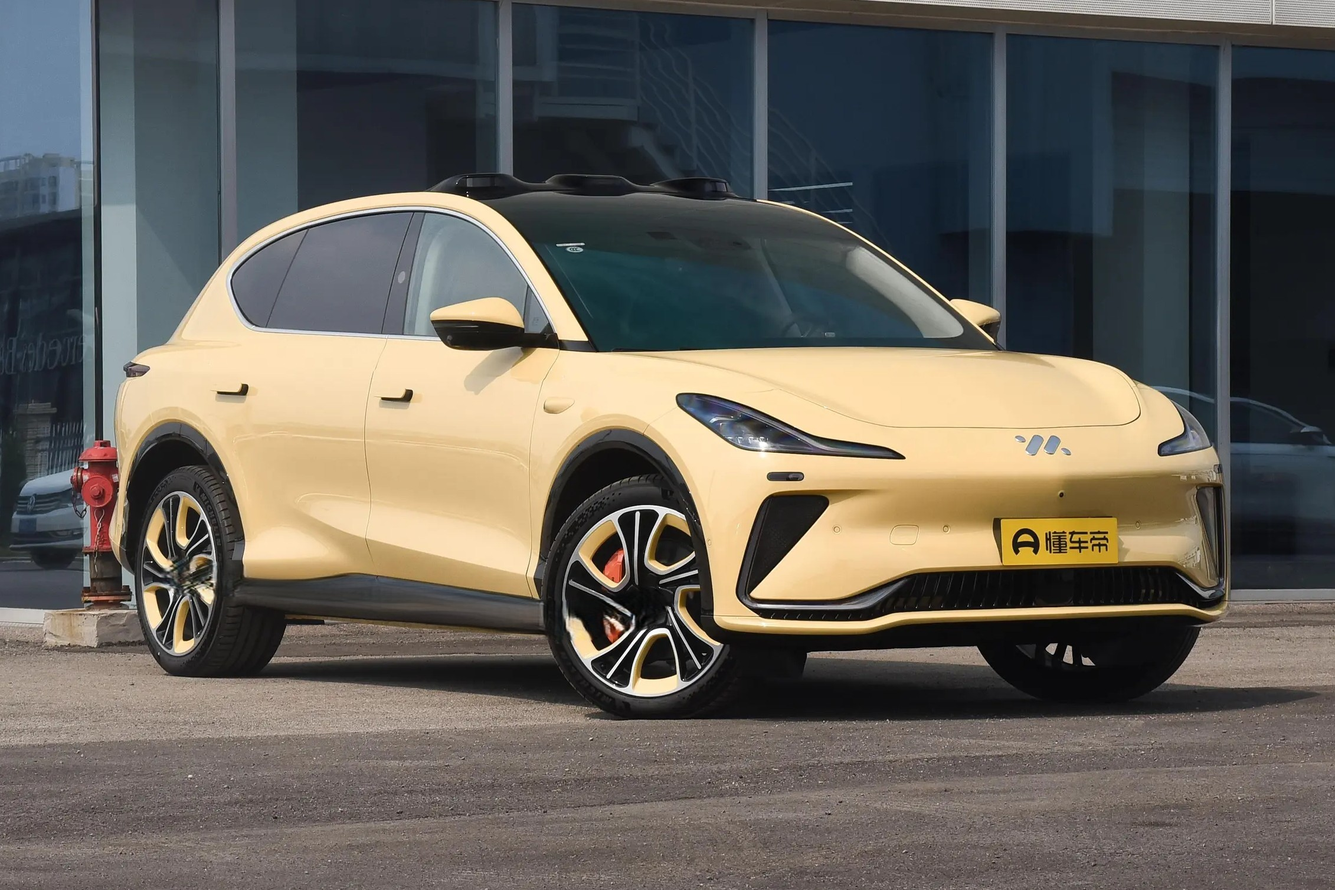IM: (1015, 435, 1071, 455)
